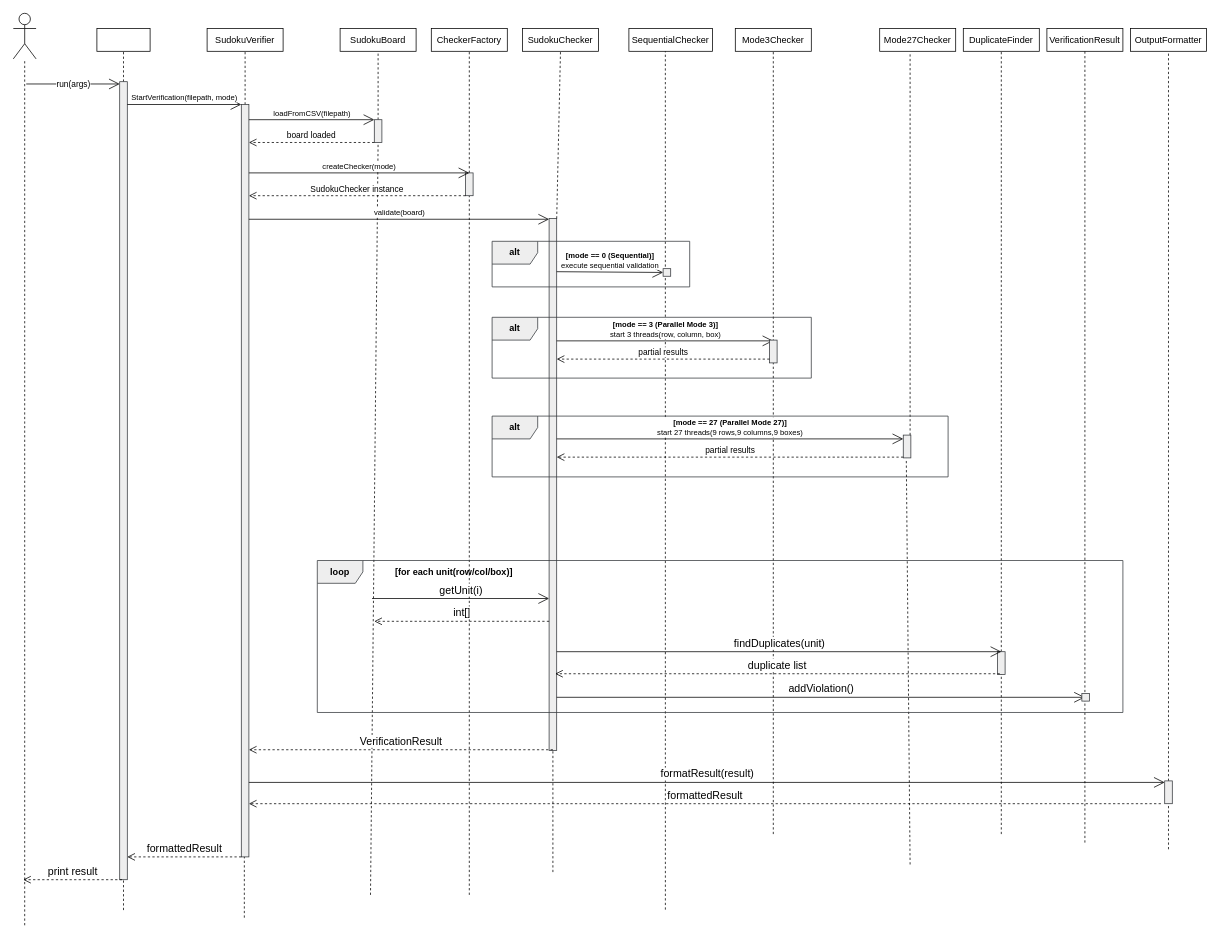
The diagram is 1220 pixels wide and 939 high, and some of its shapes have lost their labels. The shapes that lost their labels are listed below. From the top down, each one's centre as x and y in pixels, then its label:
At (x=24, y=36): "User".
At (x=123, y=39): "Main".
